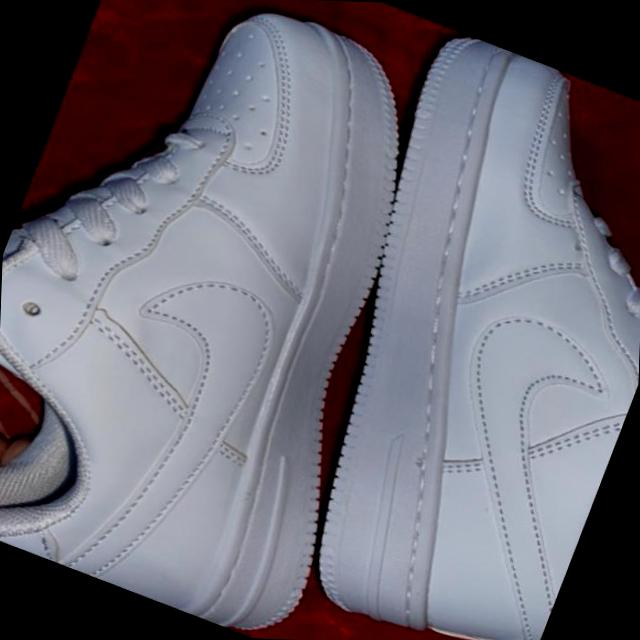nike_fake_airforce: (0, 0, 505, 640), (235, 19, 640, 640)
